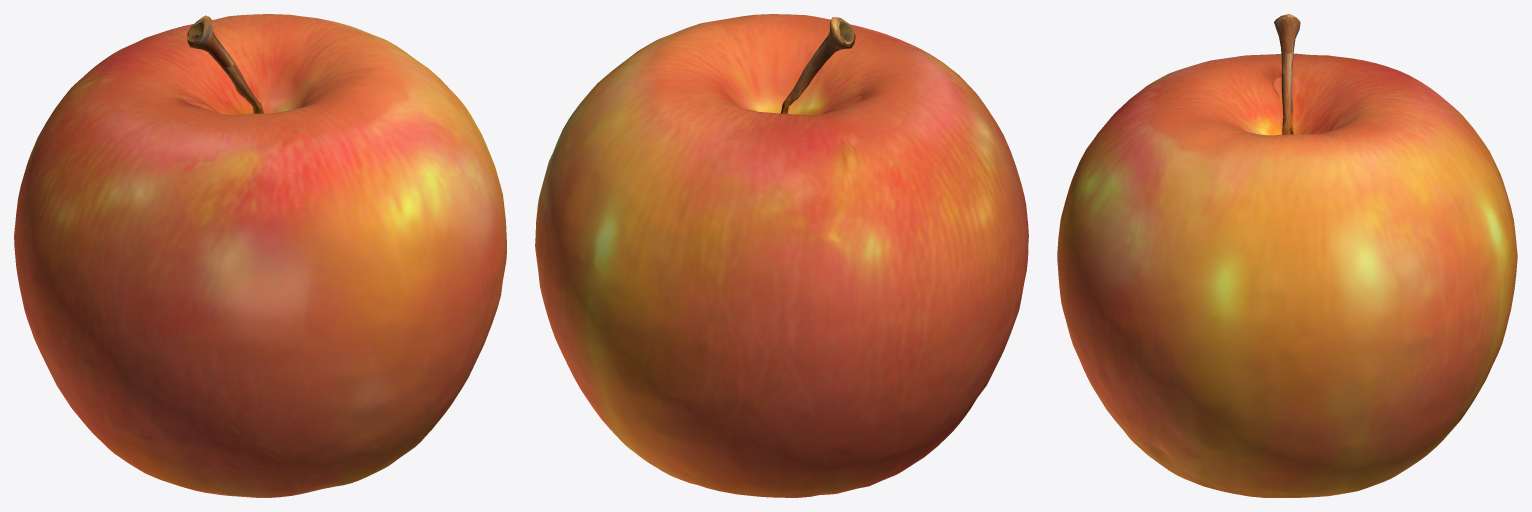
The model's file is apple.glb.
3 renders of one model, left to right at view 1: azimuth 30°, elevation 25°; view 2: azimuth 150°, elevation 25°; view 3: azimuth 270°, elevation 25°, orthographic. The views are drawn at different scales.
Bounding box in the file's own units: 2 × 2 × 2.
1 material, 1 textured.
